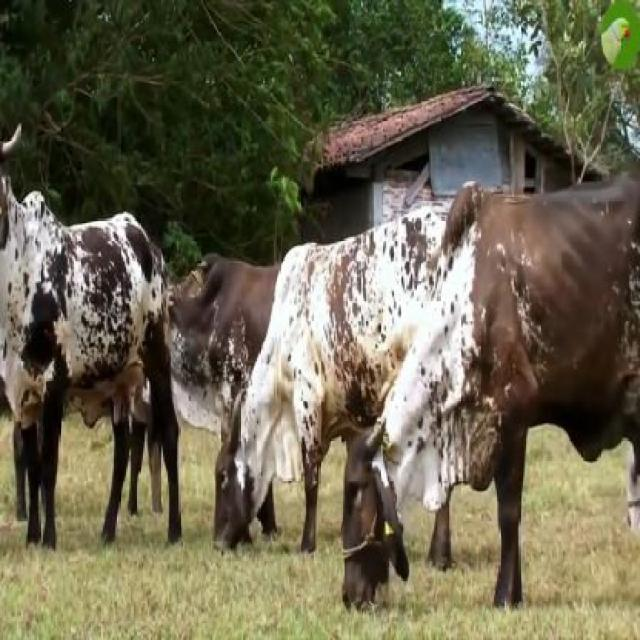Cow: (342, 162, 638, 608)
